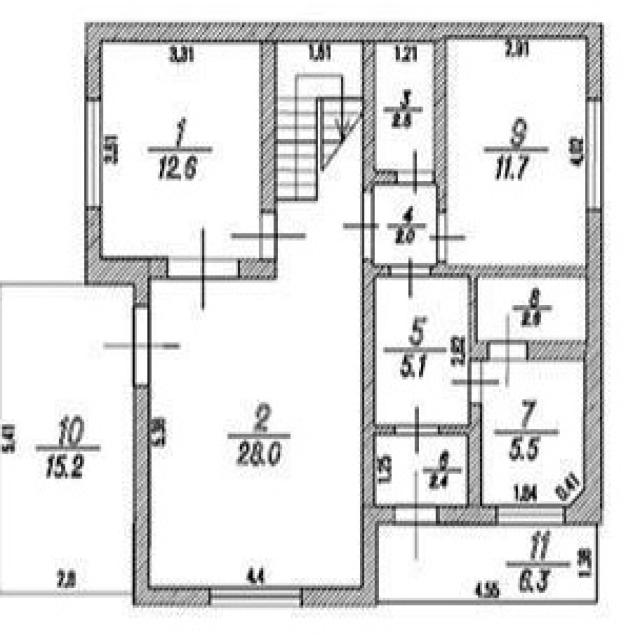Corridors: (1, 283, 133, 594), (379, 526, 598, 603), (377, 277, 468, 421), (377, 41, 433, 166), (479, 279, 583, 340), (377, 437, 468, 503), (278, 210, 361, 279), (376, 185, 435, 261)
Doors: (101, 305, 184, 387), (168, 223, 240, 314), (392, 468, 439, 560), (228, 209, 309, 261), (487, 311, 529, 391), (342, 191, 381, 260), (391, 403, 440, 453), (448, 358, 500, 404), (427, 210, 469, 263), (388, 252, 432, 301), (395, 145, 434, 194)
LBwalls: (84, 21, 604, 210), (132, 387, 210, 609), (565, 211, 604, 526), (303, 505, 394, 609), (84, 208, 168, 305), (528, 339, 585, 363), (437, 504, 497, 526), (239, 256, 277, 280), (468, 339, 488, 361)
Offices: (151, 280, 360, 586), (103, 43, 260, 256), (448, 40, 586, 264), (483, 362, 582, 503)
Stairs: (276, 42, 362, 209)
Walls: (429, 264, 586, 343), (361, 259, 395, 508), (362, 41, 397, 193), (439, 403, 483, 506), (433, 40, 446, 212)
Windows: (209, 585, 303, 609), (84, 98, 102, 209), (586, 98, 603, 211), (496, 503, 567, 525)
